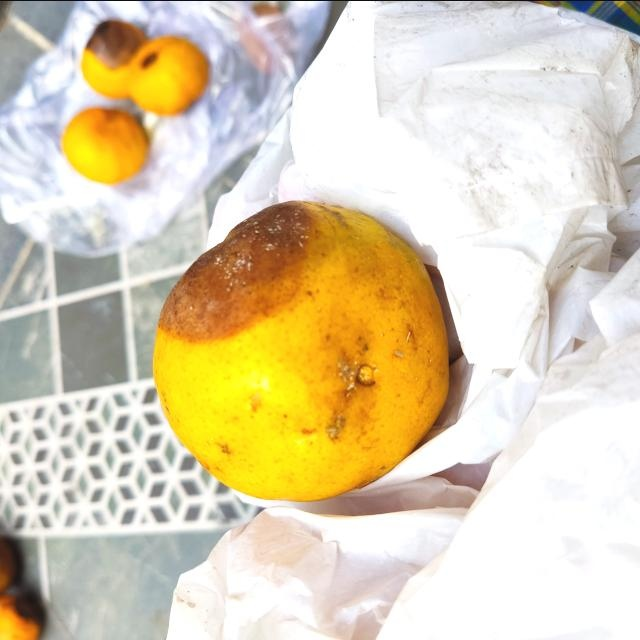agrume: (152, 201, 456, 501)
